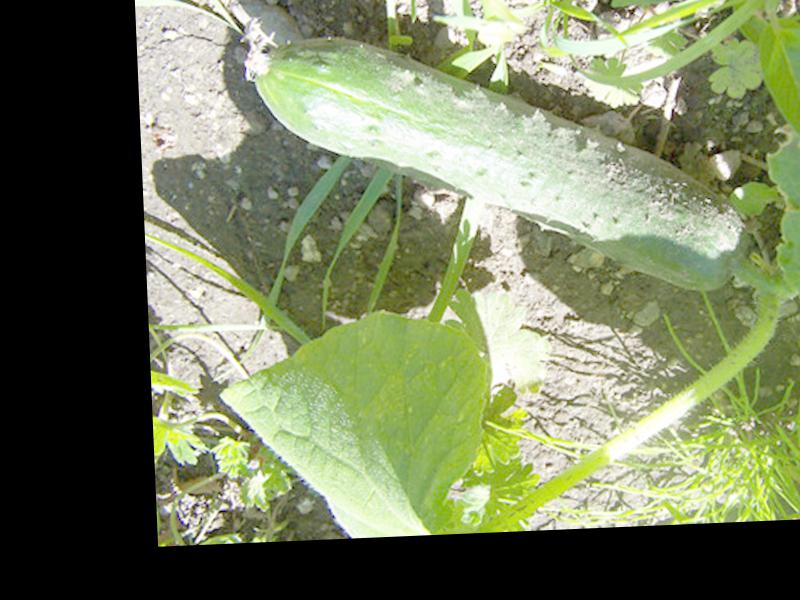Cucumber: (245, 18, 754, 311)
